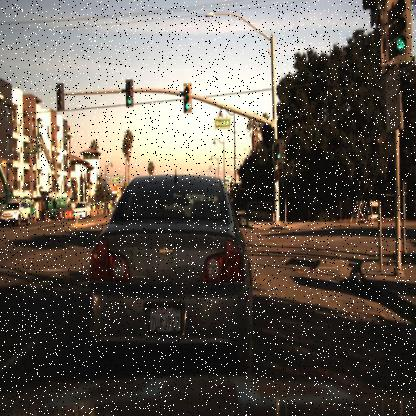car: (76, 150, 264, 392), (0, 200, 33, 228), (68, 195, 93, 224)
trafficLight: (179, 77, 192, 116), (50, 79, 63, 111), (121, 73, 133, 107)
trafficLight-Green: (380, 0, 415, 76), (274, 131, 288, 169)
